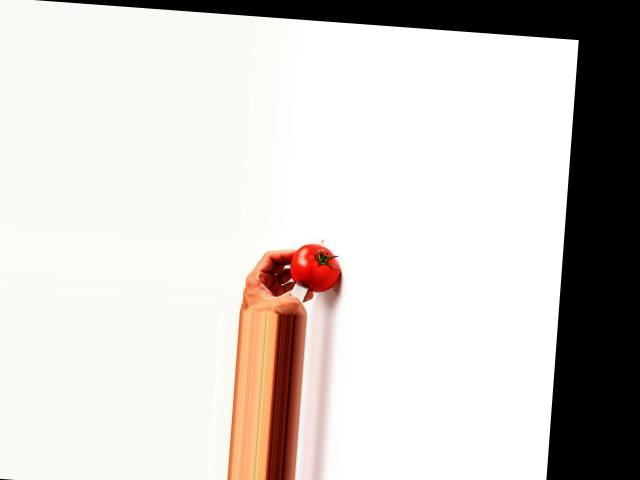tomato: (288, 242, 341, 293)
